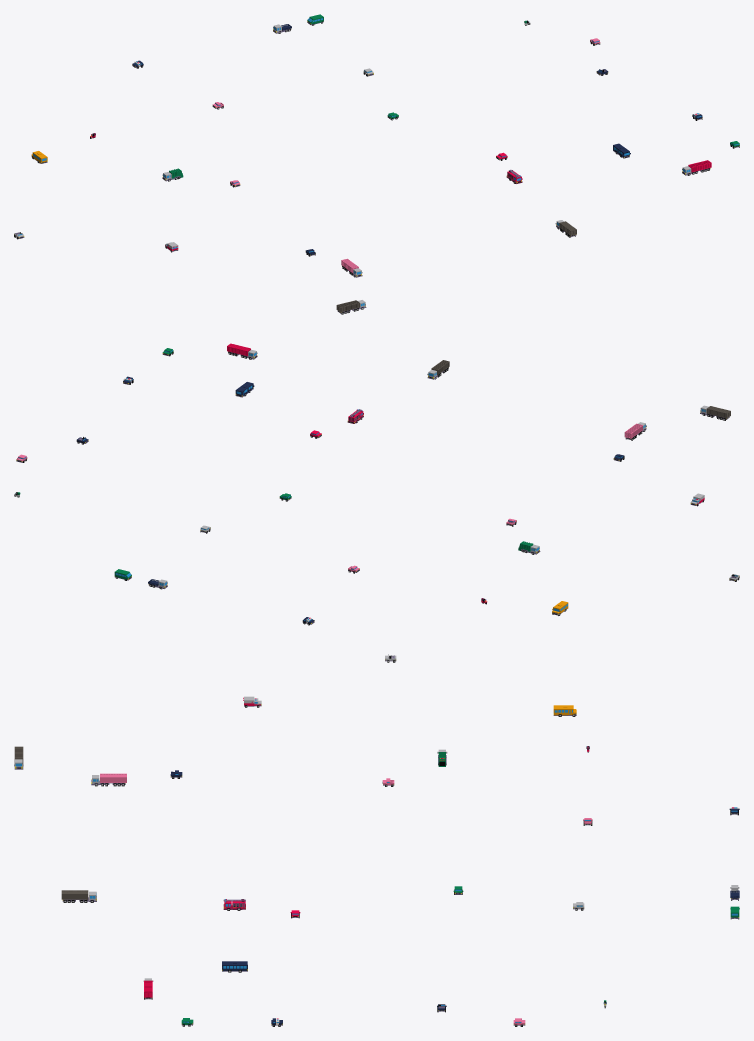
The model's file is city-cars2.gltf.
3 renders of one model, top to bottom at view 1: azimuth 30°, elevation 25°; view 2: azimuth 150°, elevation 25°; view 3: azimuth 270°, elevation 25°, orthographic. The views are drawn at different scales.
Size of the model in its own units: 152 by 3.4 by 127.
Materials: 21 (21 with a texture image).
